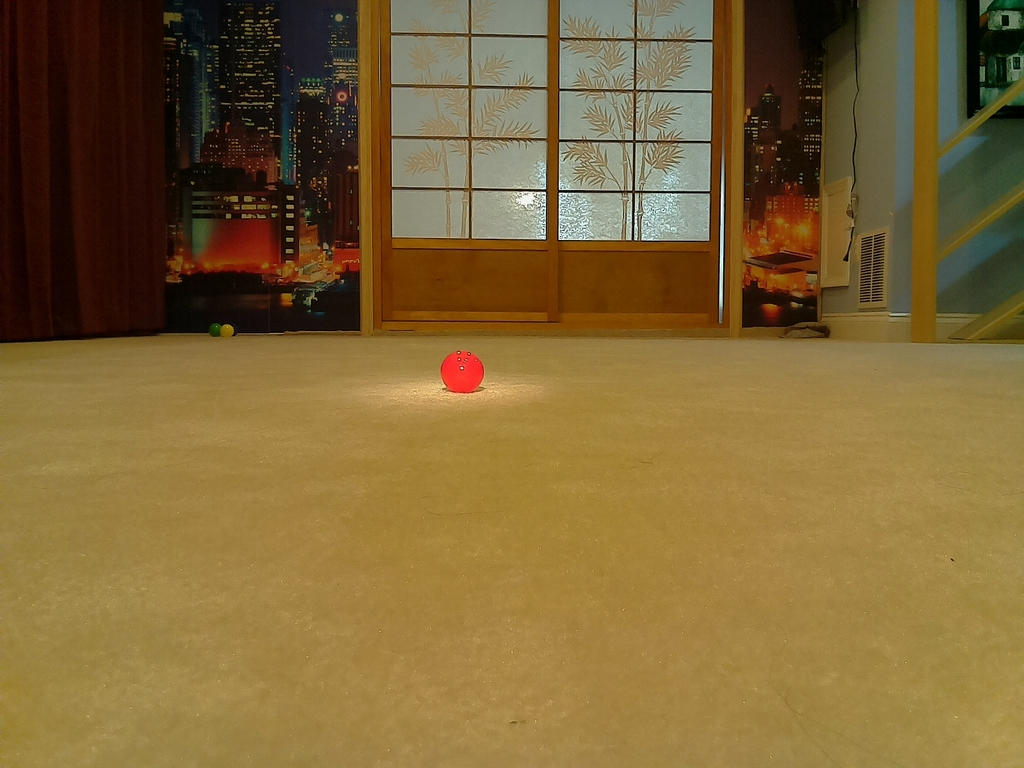ball: (211, 325, 222, 335)
